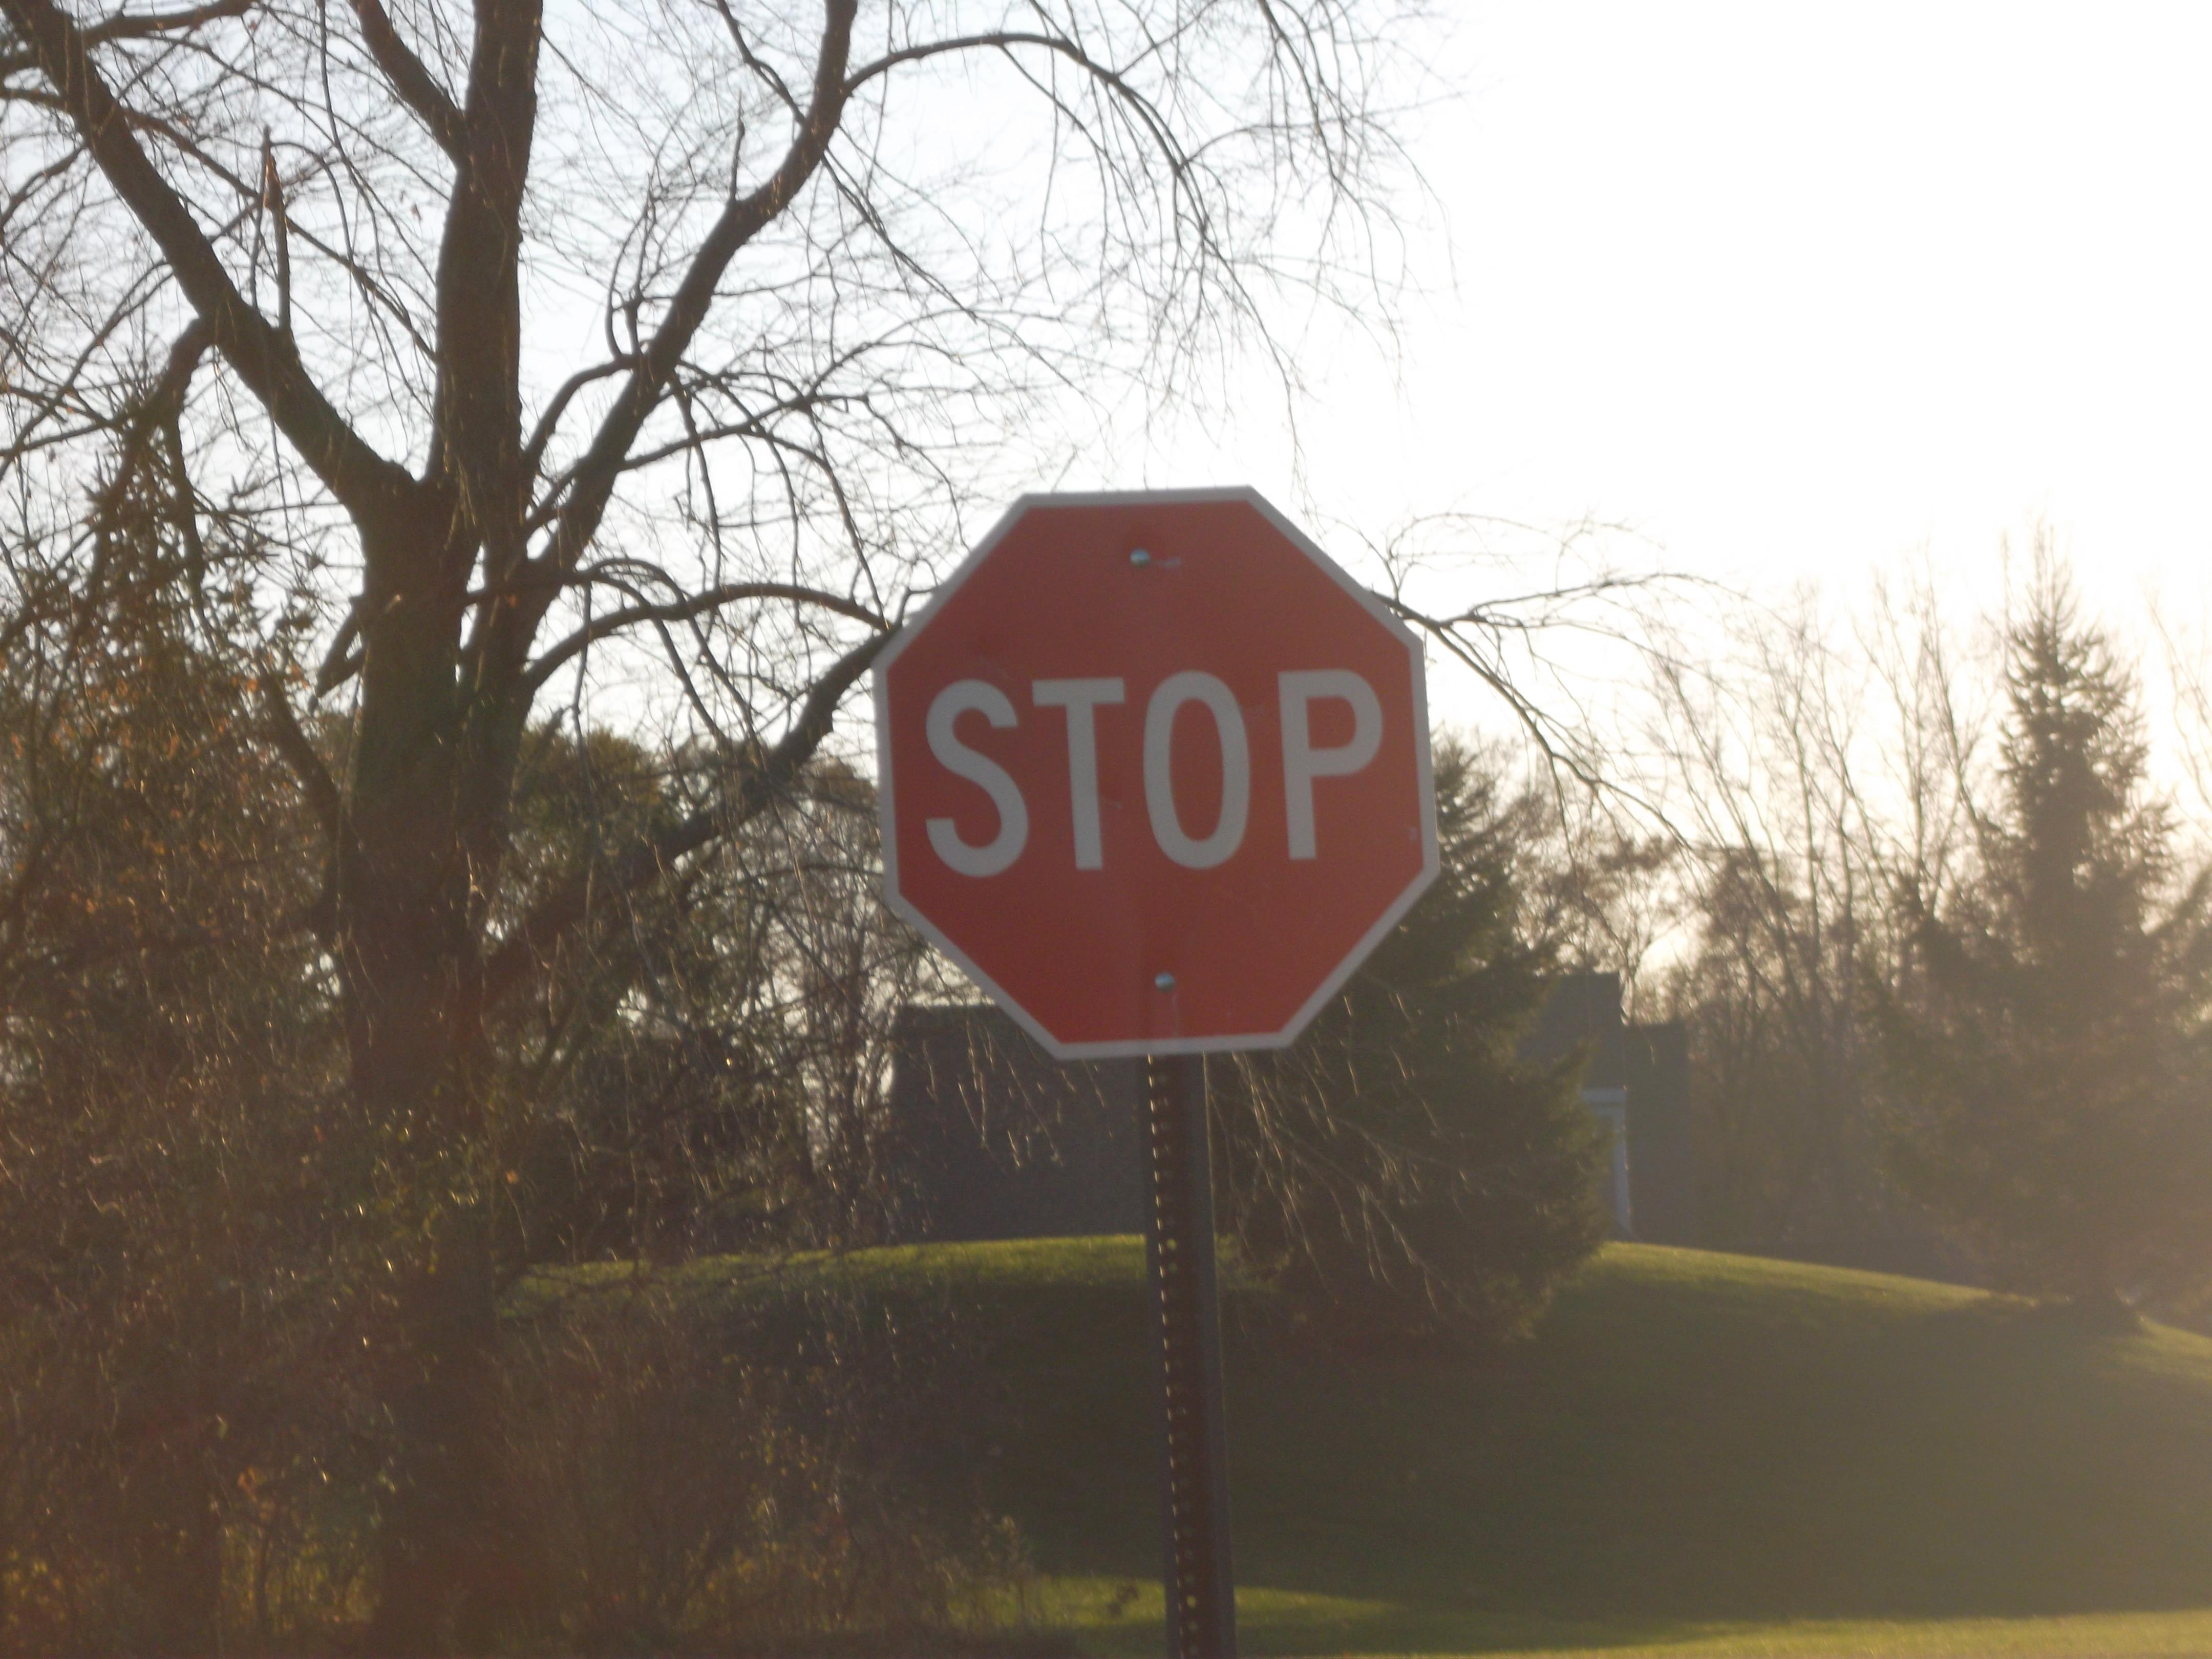stop: (860, 481, 1454, 1080)
